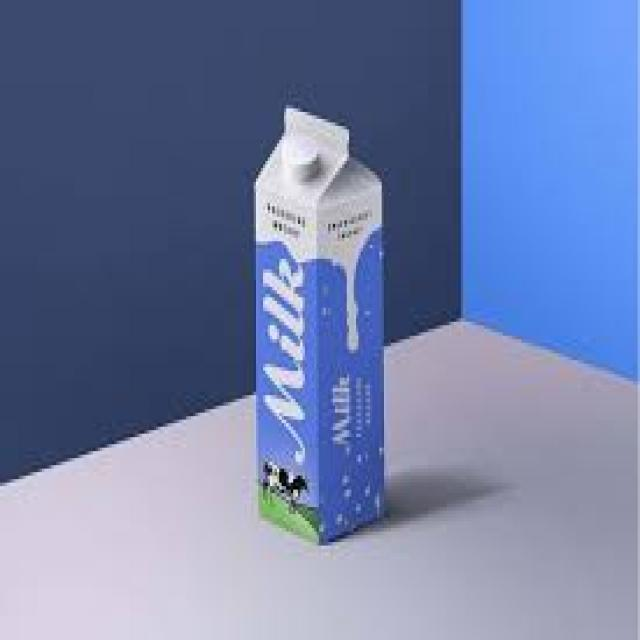non_white_jug: (242, 86, 396, 540)
